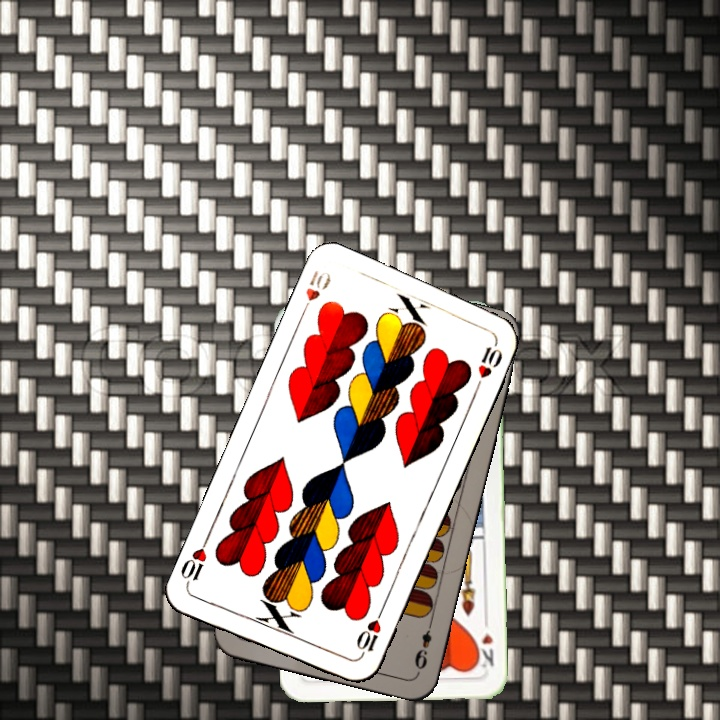E9: (410, 617, 436, 672)
H10: (296, 266, 334, 320), (352, 606, 386, 662)
HK: (472, 629, 496, 670)
